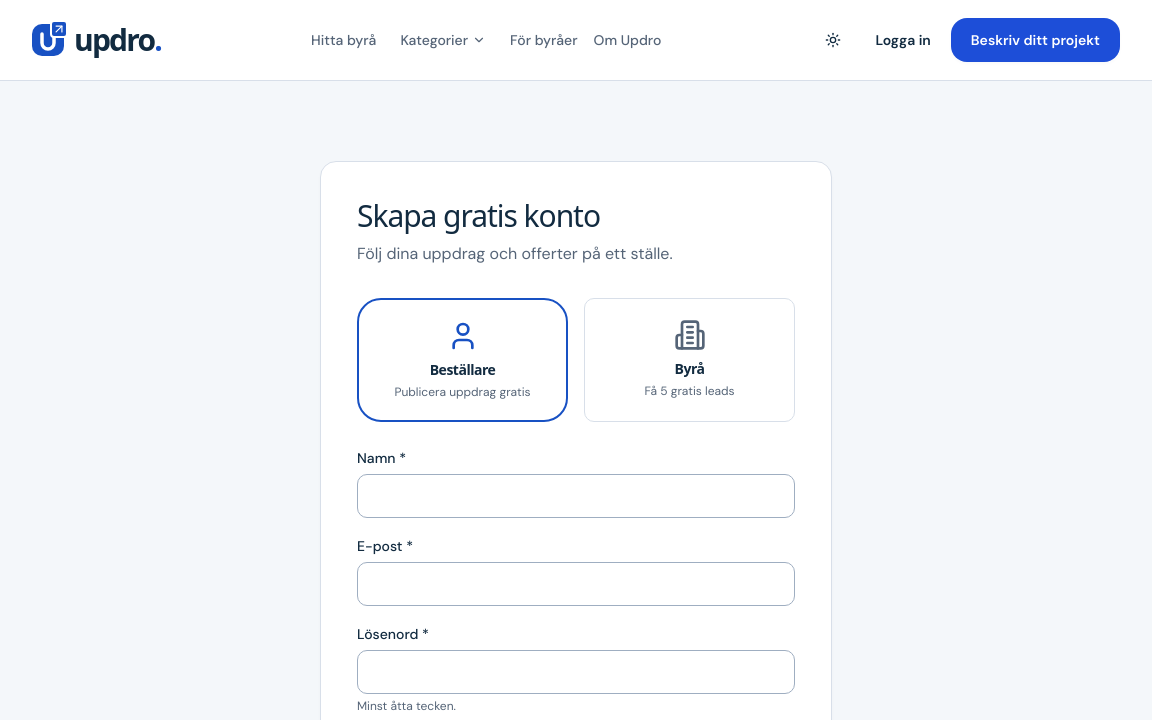
offers confirmation resend when registration finds an existing email
Later steps or results of the test are not shown.
Type "Testperson" into the field labelled "Namn *" at (576, 496), box 357,474 -> 795,518
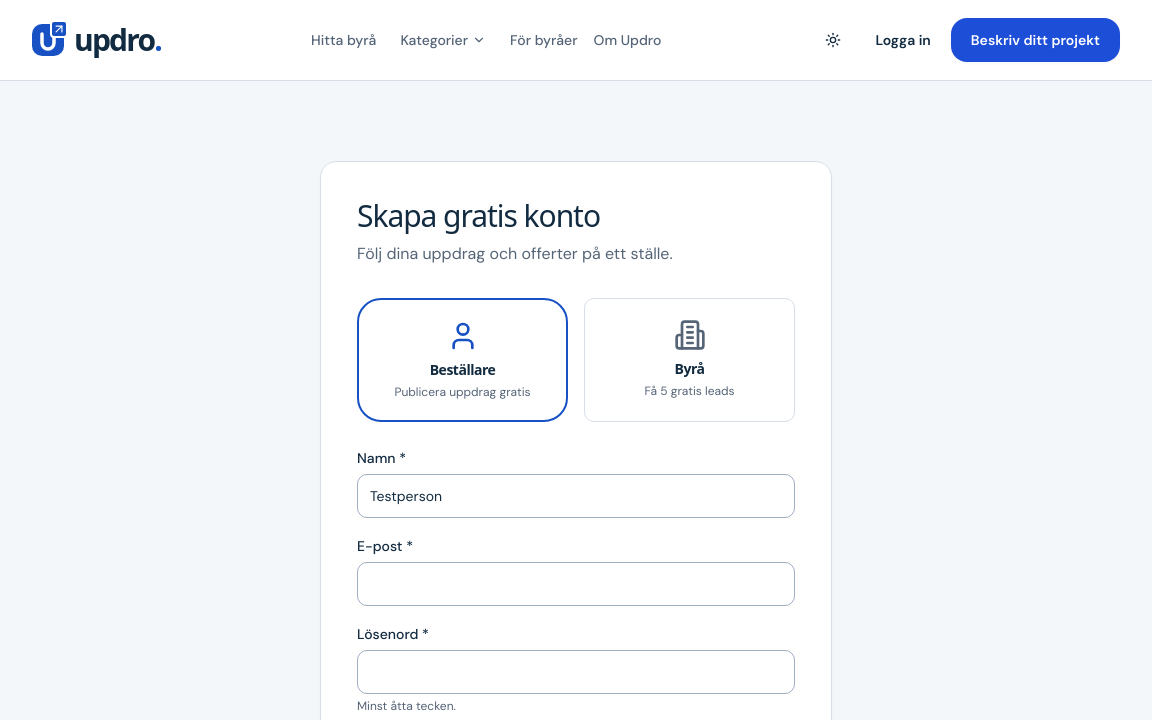
Type "existing@example.test" into the field labelled "E-post *" at (576, 584), box 357,562 -> 795,606
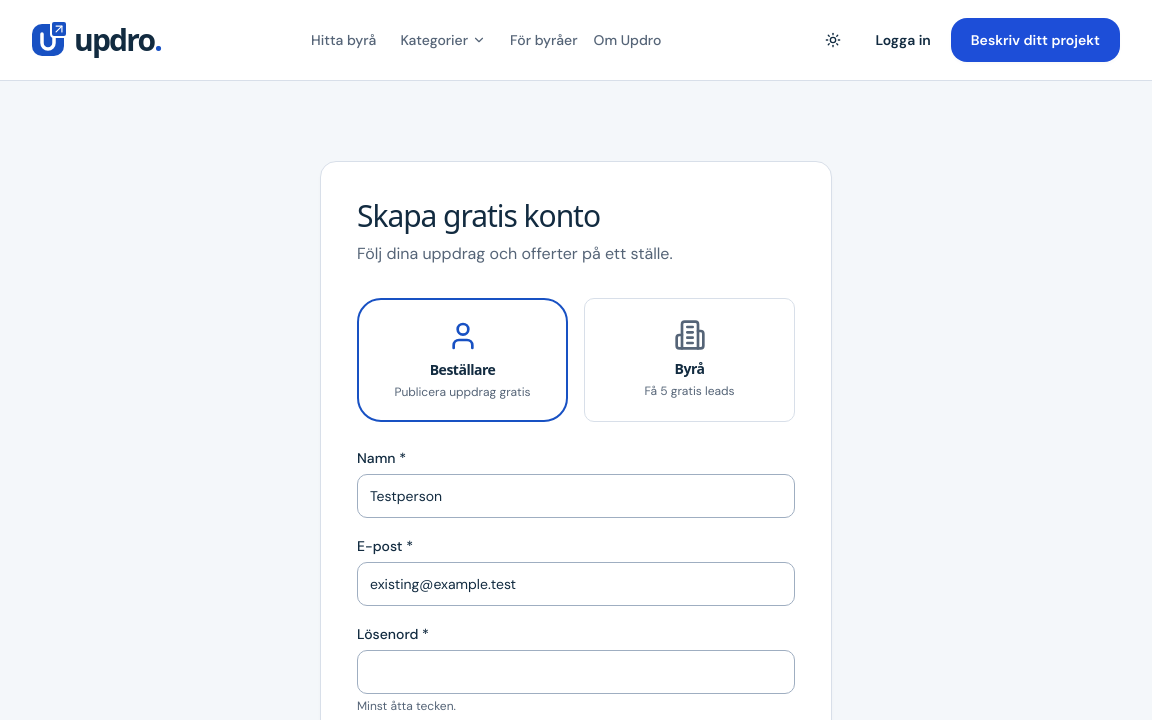
Type "local-password" into the password field labelled "Lösenord *" at (576, 672), box 357,650 -> 795,694
(page scrolled)
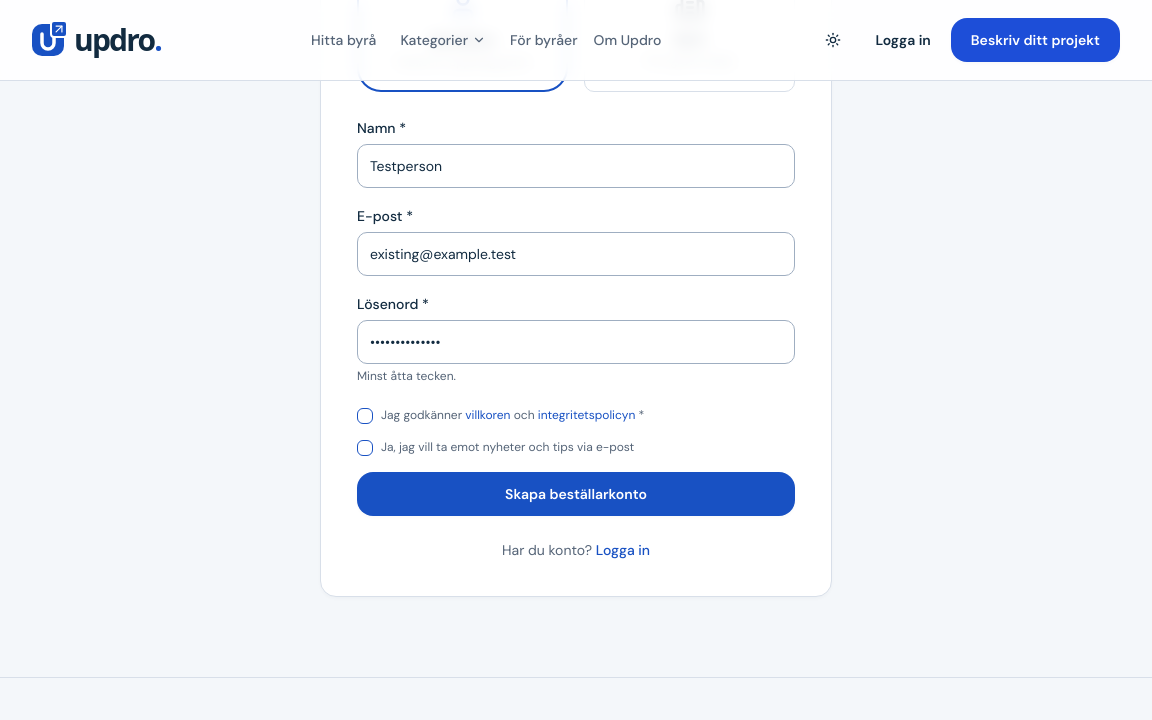
Click the checkbox named "Jag godkänner" next to "Jag godkänner" at (365, 416), box 357,408 -> 373,424
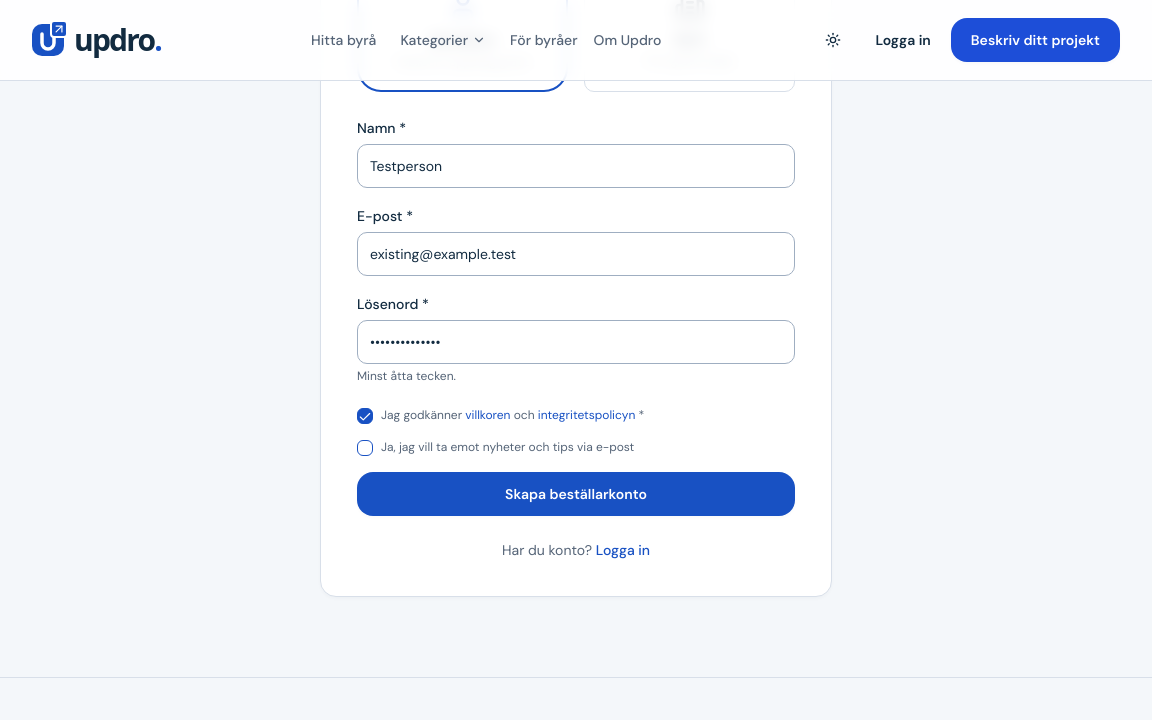
Click the button "Skapa beställarkonto" at (576, 494), box 357,472 -> 795,516
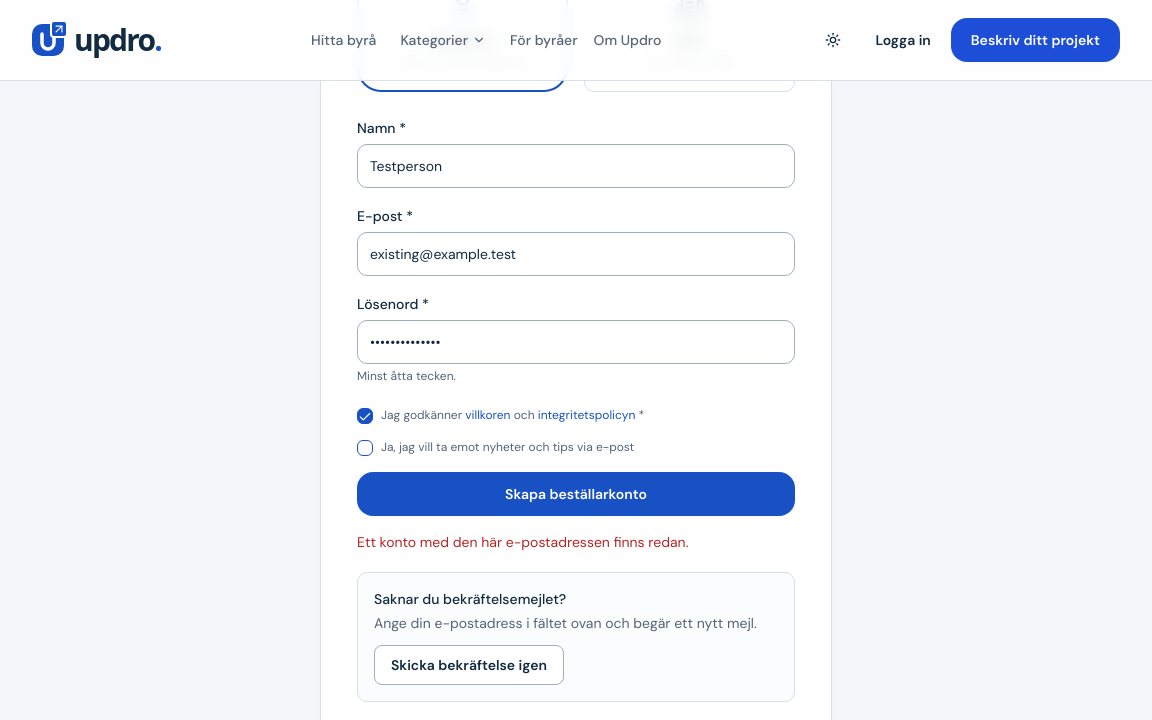
expect the message shows "finns redan": met, box 357,533 -> 688,551
